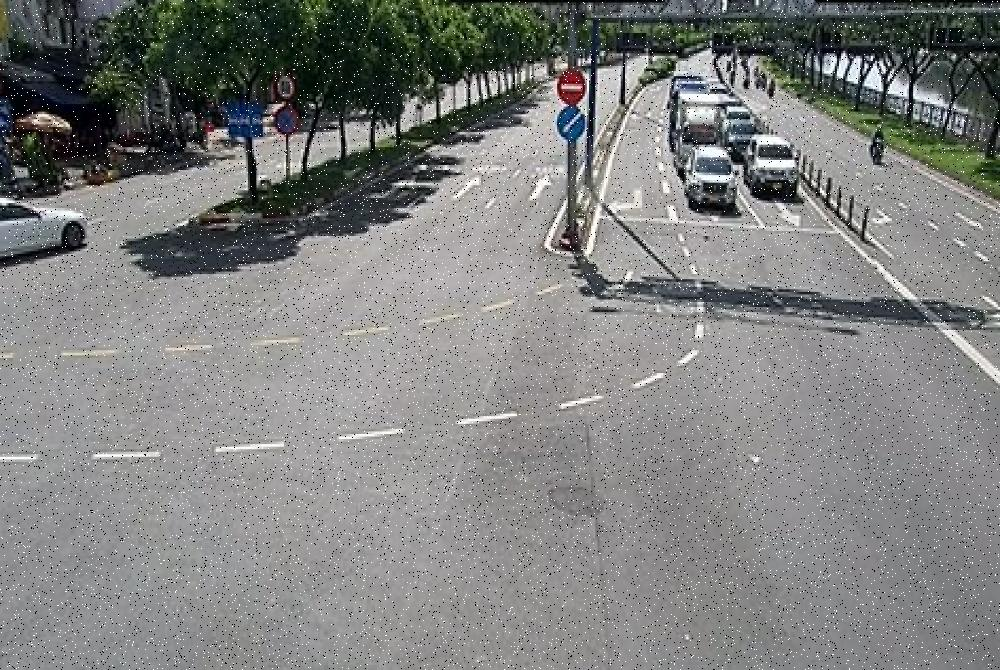car: (743, 134, 797, 200), (684, 146, 737, 213)
truck: (674, 93, 724, 178)
